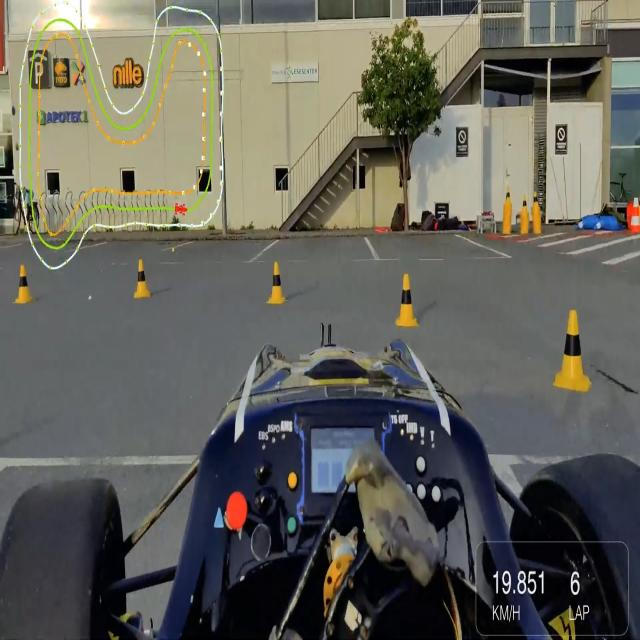large_orange_cone: (631, 195, 640, 232)
yellow_cone: (553, 306, 591, 392), (397, 272, 419, 328), (265, 260, 289, 306), (13, 262, 34, 308), (133, 257, 152, 300), (521, 194, 529, 216), (532, 192, 540, 210), (505, 187, 511, 208)
